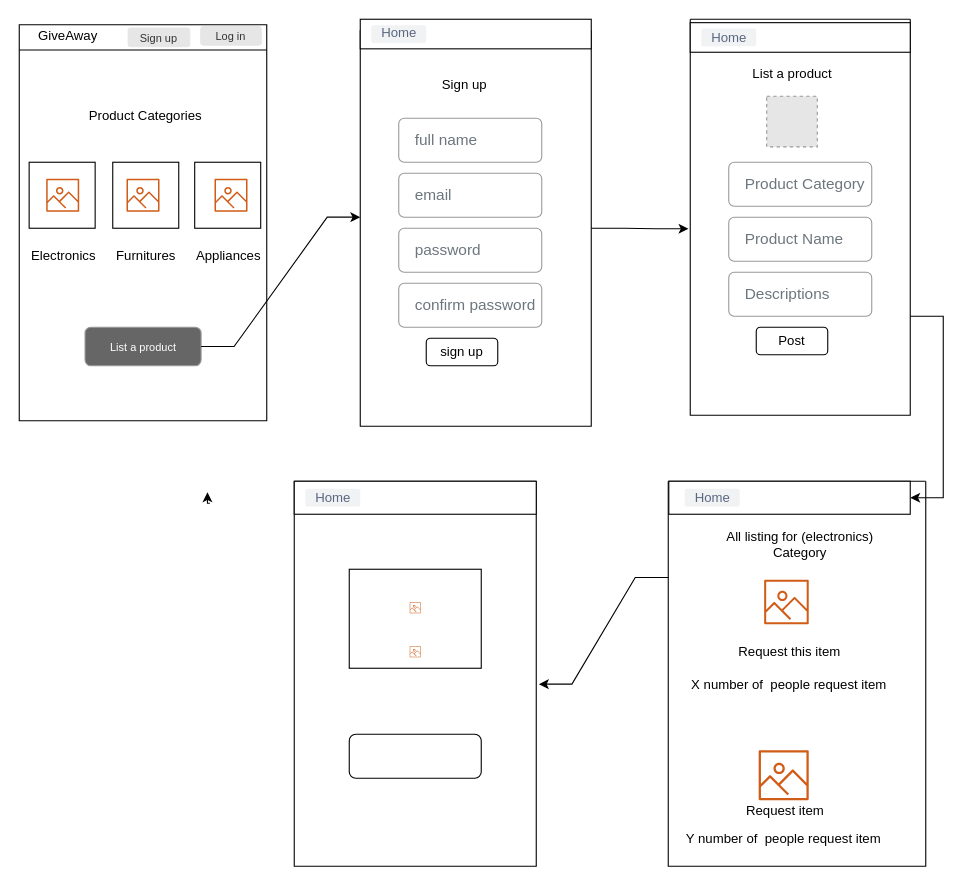
Image size: 971x886. Some labels were removed from this diagram. Grey dashed boxes stand in for pictures. Each missing label, with the centre of its shape:
List a new product: pixel 414 755
Transaction history: Listed products Requested products:: pixel 414 618
